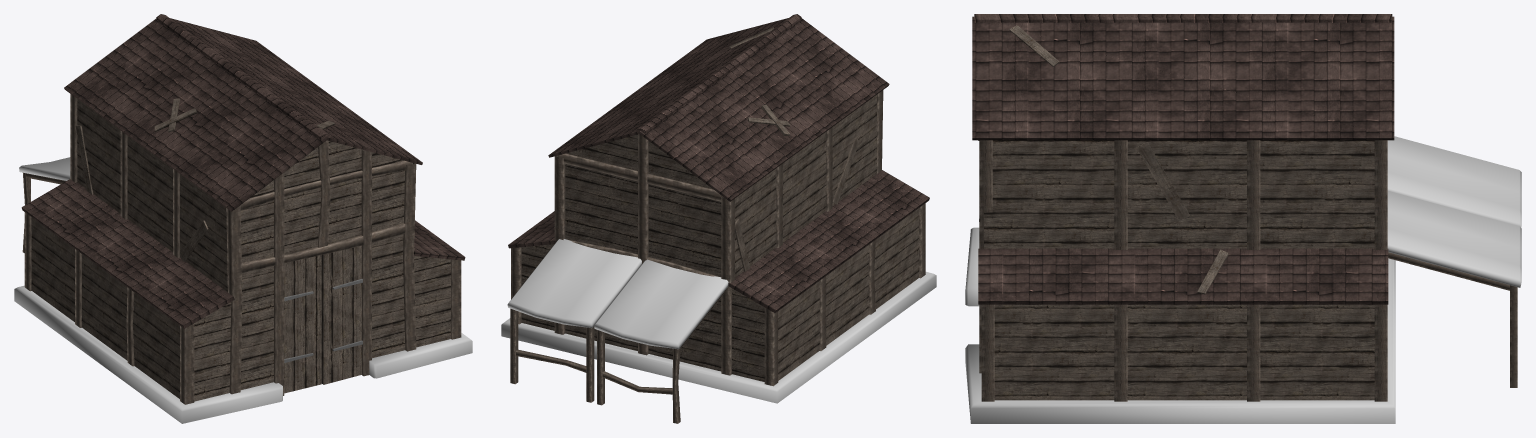
File: Werehouse.fbx
3 views of the same model, side by side, from view 1: azimuth 30°, elevation 25°; view 2: azimuth 150°, elevation 25°; view 3: azimuth 270°, elevation 25° (orthographic). The views are drawn at different scales.
Visible parts, largest first — view 1: warehouse; view 2: warehouse; view 3: warehouse.
Boxes of the visible parts, x1,y1,x2,y2 form: warehouse: [14, 14, 472, 423]; warehouse: [501, 14, 936, 423]; warehouse: [965, 14, 1521, 423].
Size of the model in its own units: 640 by 532 by 838.
